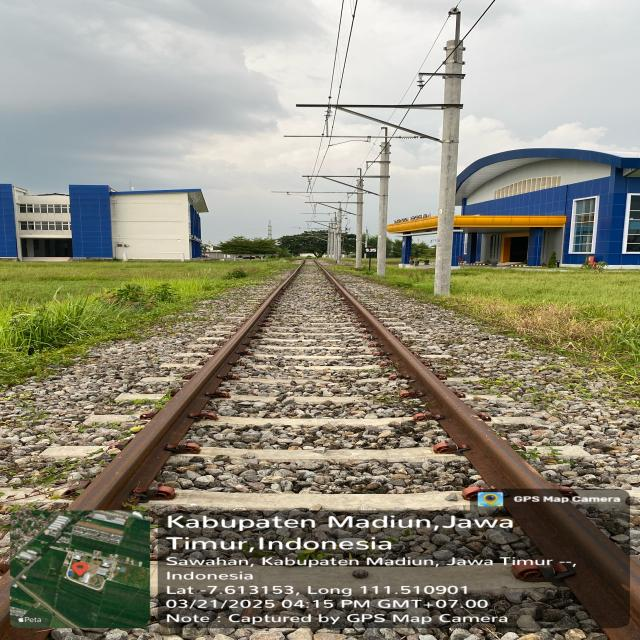rail-detection: (313, 259, 640, 640), (70, 258, 305, 510)
